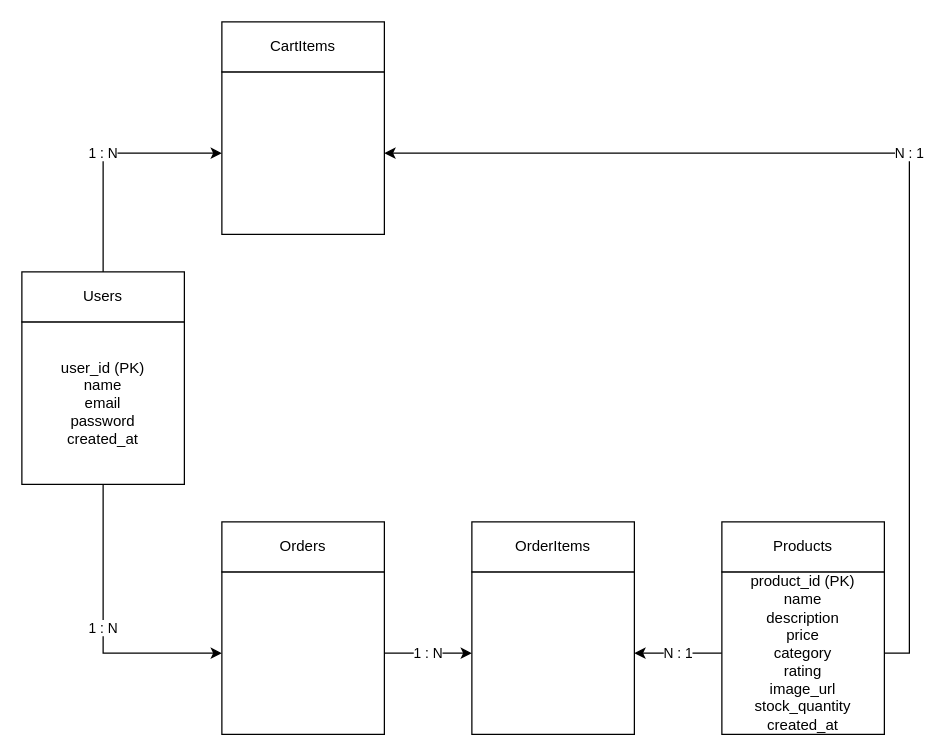
Some shapes in this 945 by 756 pixel diagram are drawn without their labels. Here are the shapes that lost their labels. From the top down, the centre of each, then its label:
At [302,152]: "cart_item_id (PK) user_id (FK) product_id (FK) quantity added_at".
At [302,652]: "order_id (PK) user_id (FK) total_price status created_at".
At [552,652]: "order_item_id (PK) order_id (FK) product_id (FK) quantity item_price".
